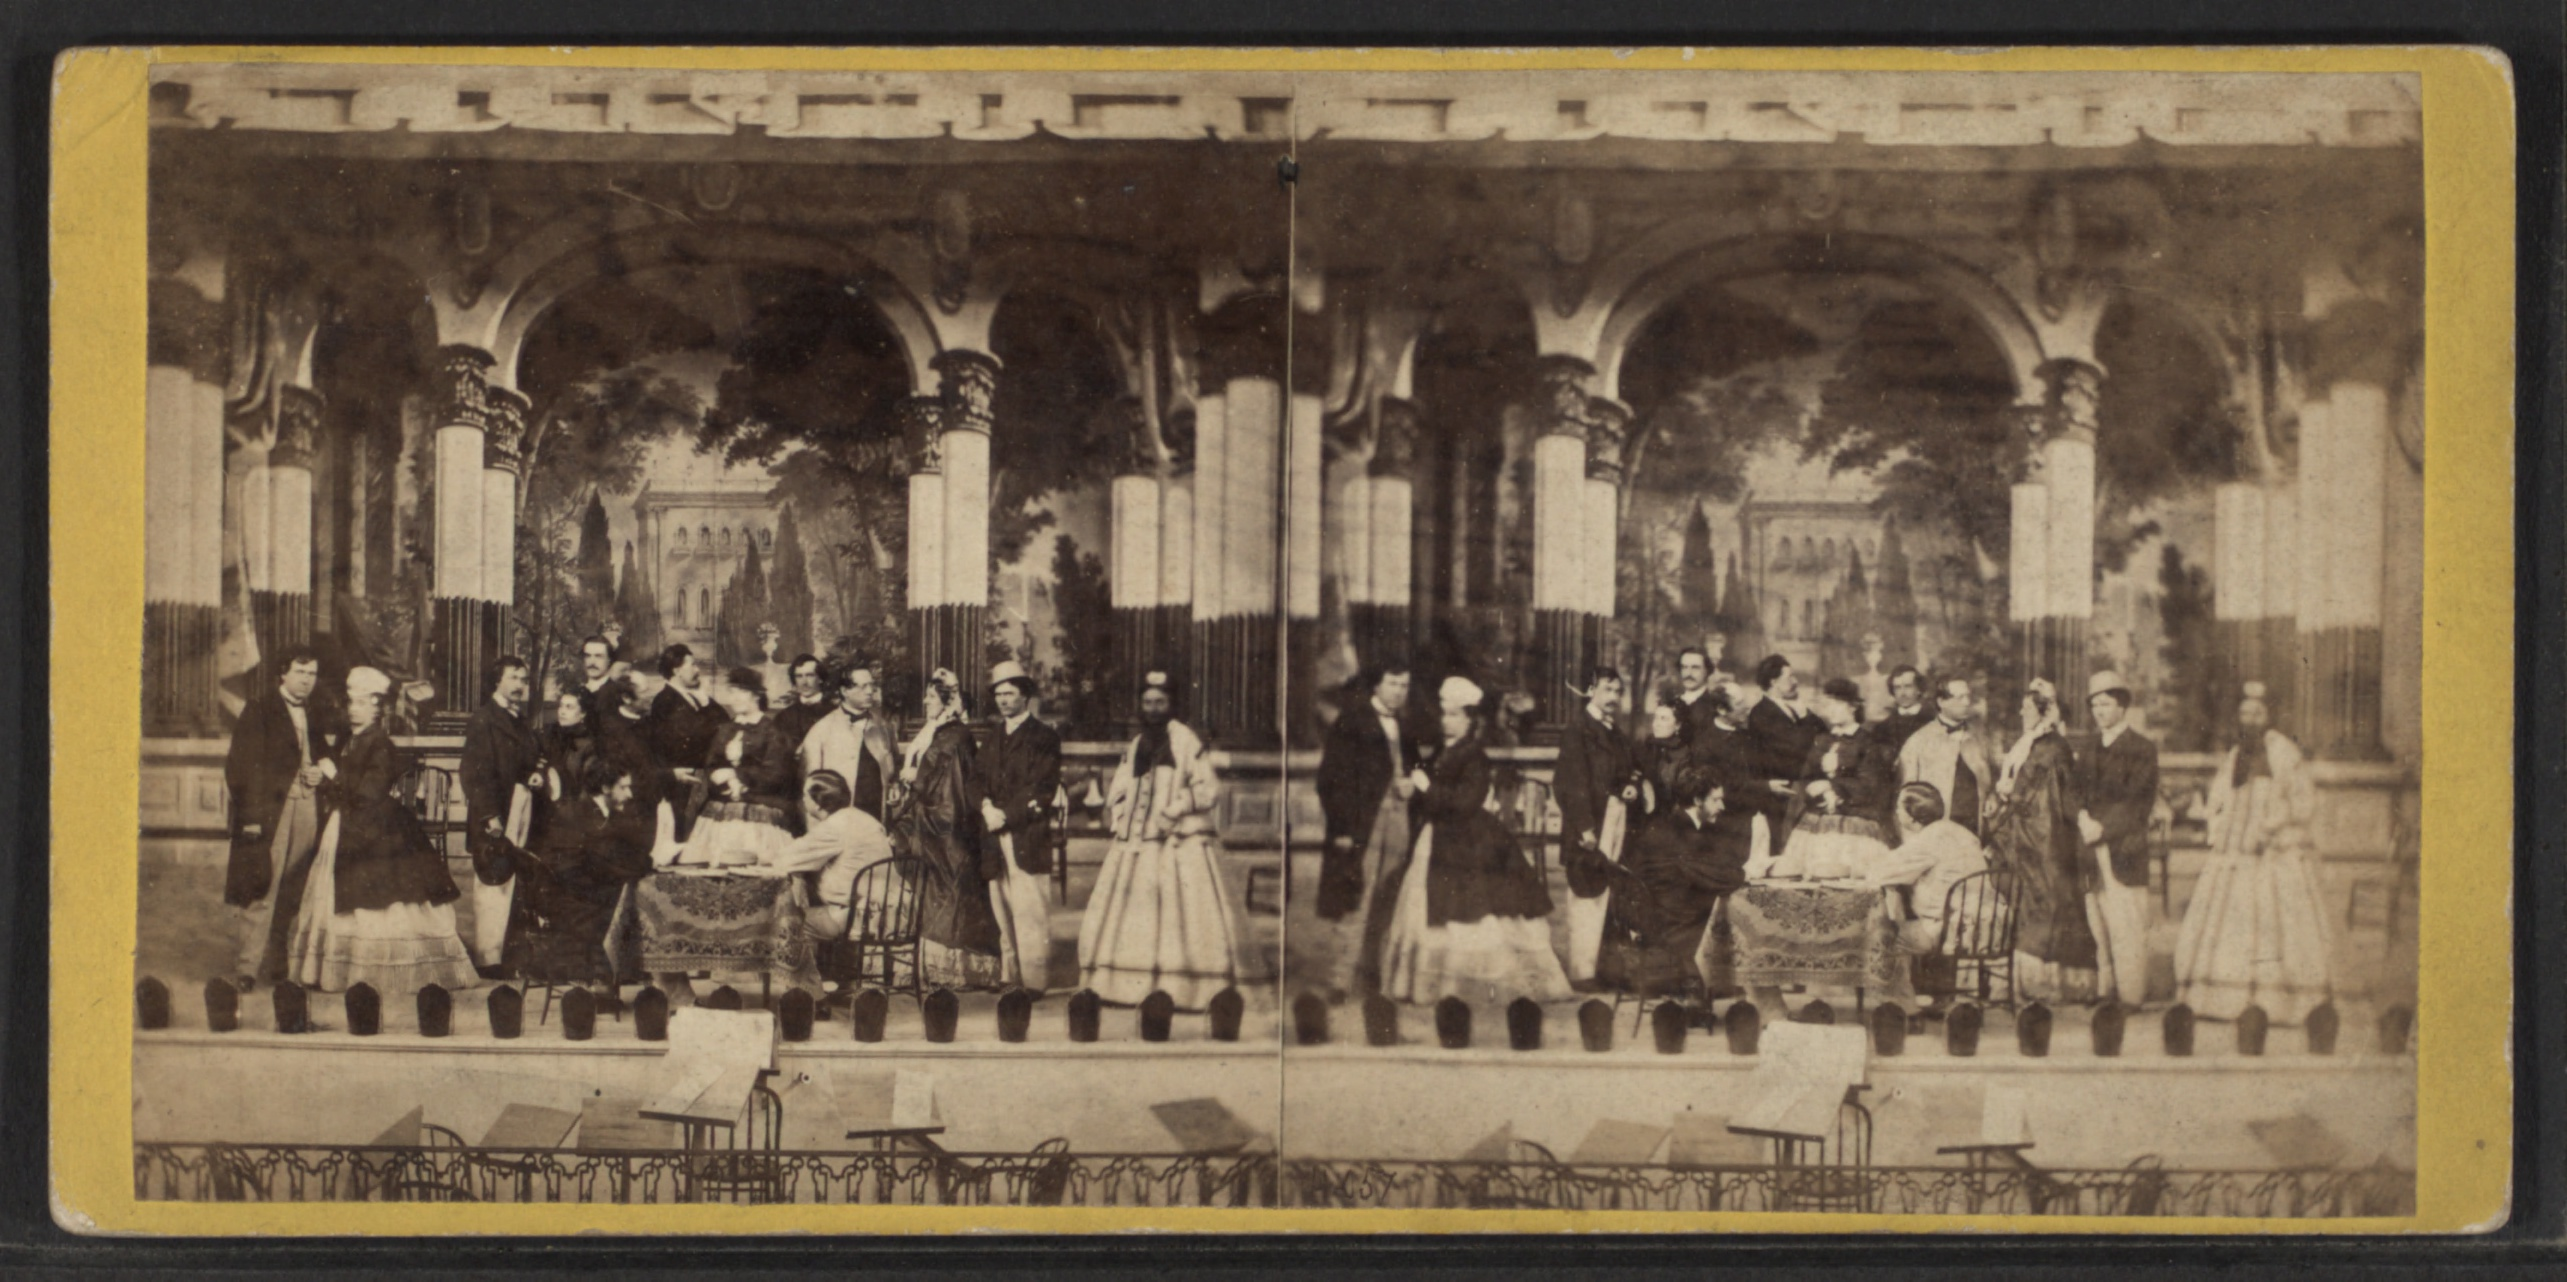bad: (501, 666, 537, 702), (1133, 689, 1169, 725), (285, 661, 321, 697), (1382, 670, 1418, 706), (1593, 678, 1629, 714)
